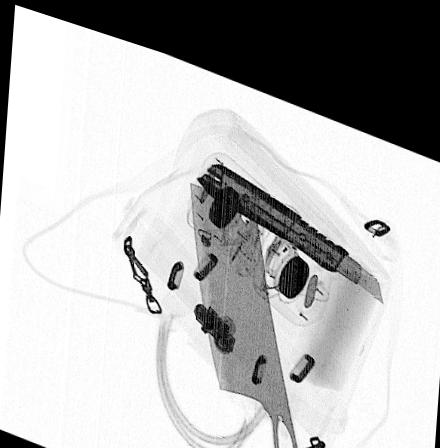Knife: (189, 170, 301, 448), (194, 149, 384, 281)
